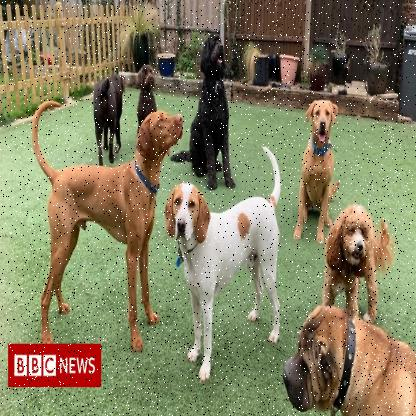dog: (18, 97, 186, 350), (166, 169, 285, 385), (281, 299, 416, 415), (186, 30, 239, 190), (324, 202, 379, 303), (298, 95, 336, 231), (94, 66, 126, 165), (134, 60, 160, 110)
